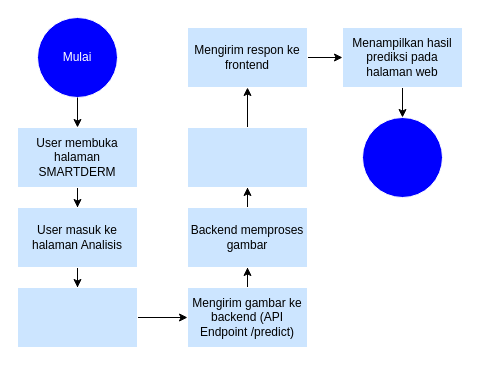
Some shapes in this 480 by 365 pixel diagram are drawn without their labels. The shapes that lost their labels are listed below. From the top down, each one's centre as x and y in pixels, then its label:
(x=247, y=157): Menghasilkan Prediksi
(x=402, y=157): Selesai
(x=77, y=317): User mengunggah gambar
